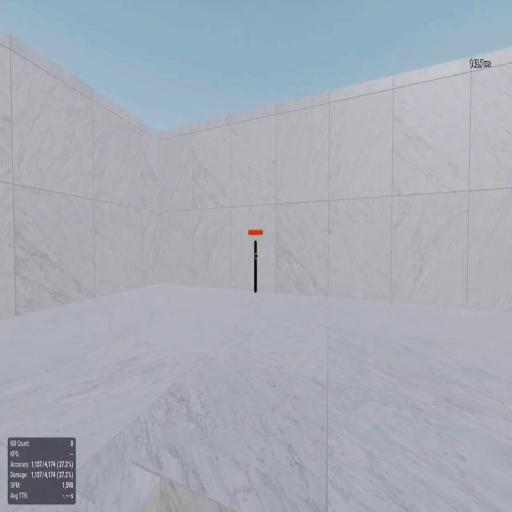Crosshair: (254, 252, 258, 261)
Target: (254, 240, 257, 292)
